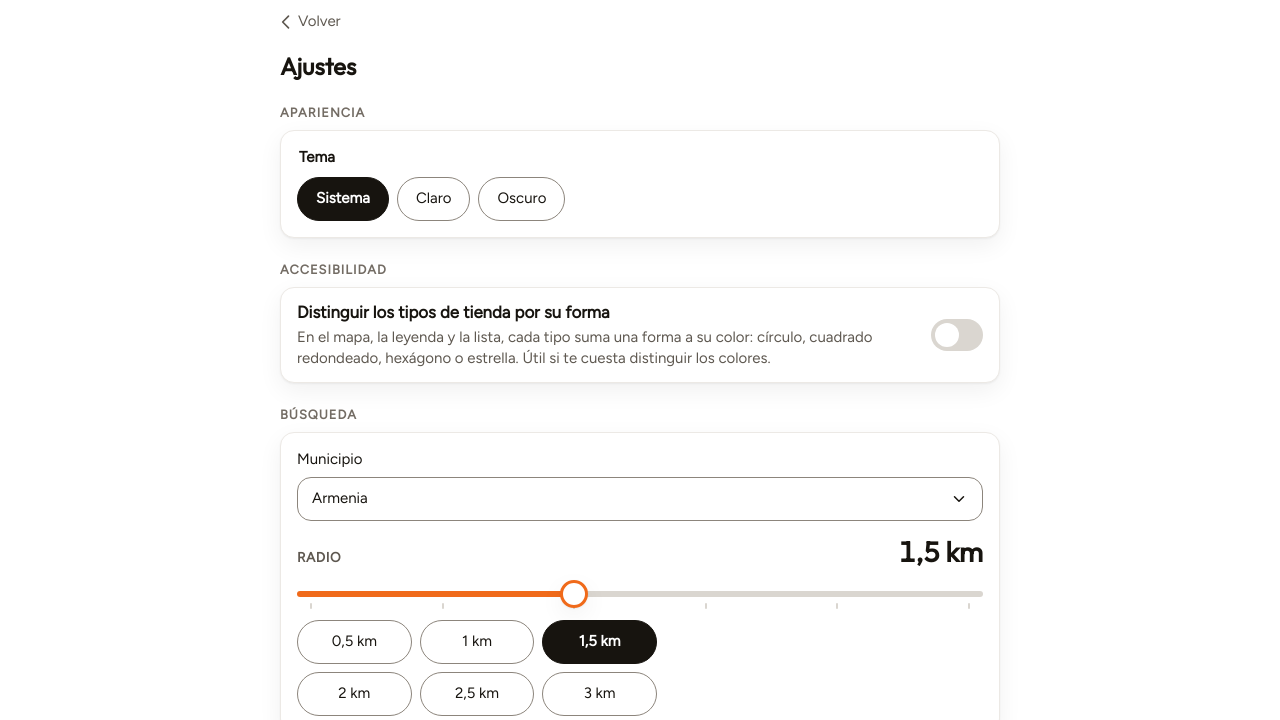
Test: ajustes › el municipio se elige y queda recordado
Click the button named "Municipio". click: (340, 498)
box: [297,477,983,521]
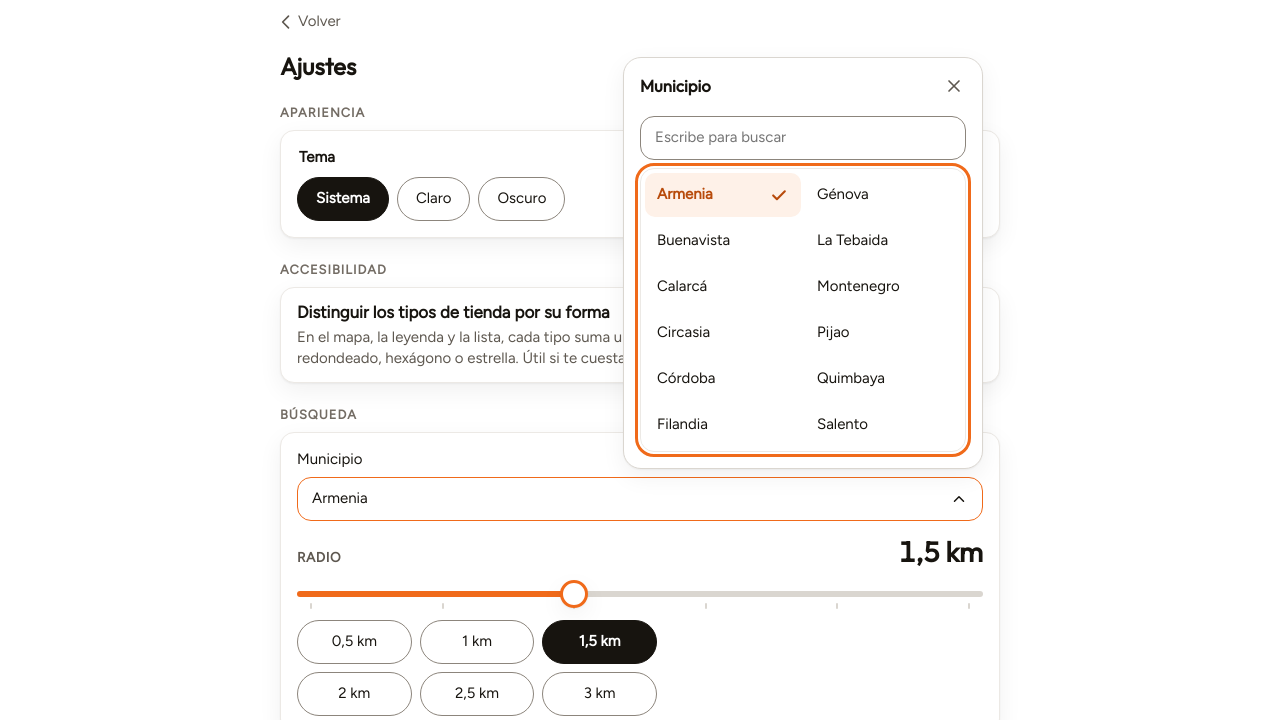
Click the option "Calarcá". click: (682, 286)
box: [657,277,707,295]
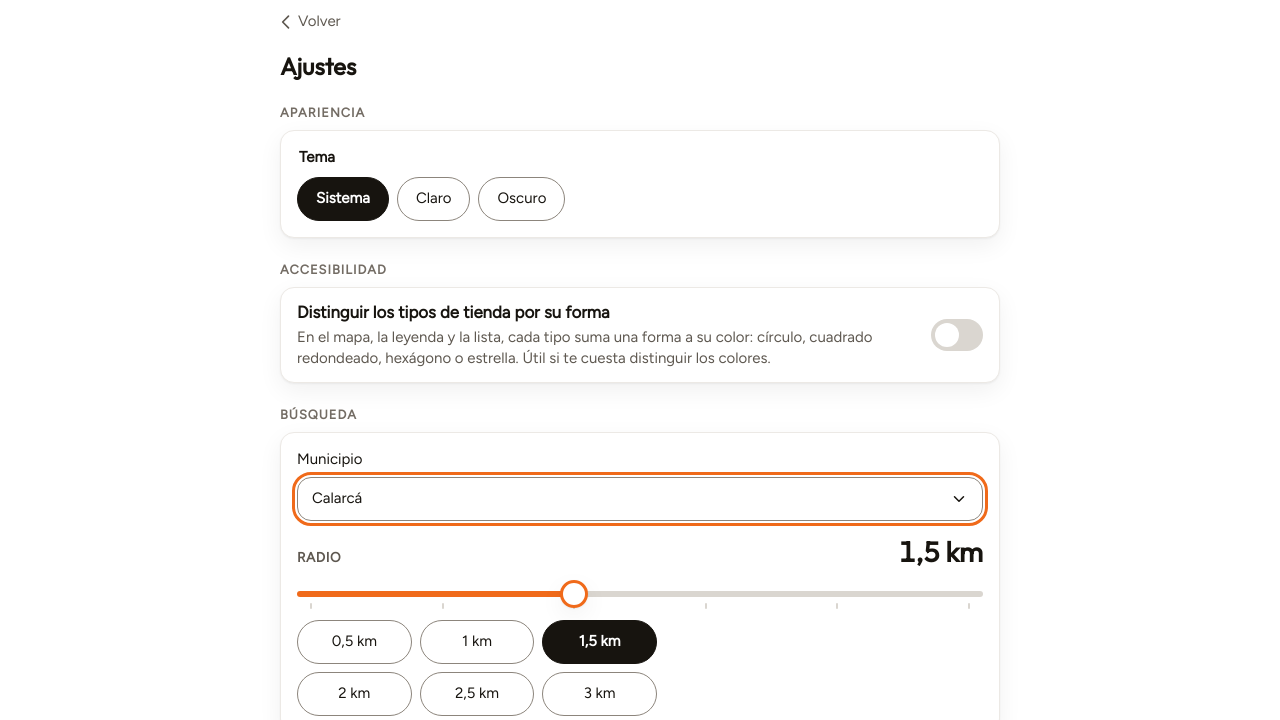
Check: the button named "Municipio" reads "Calarcá", box [297,477,983,521]
